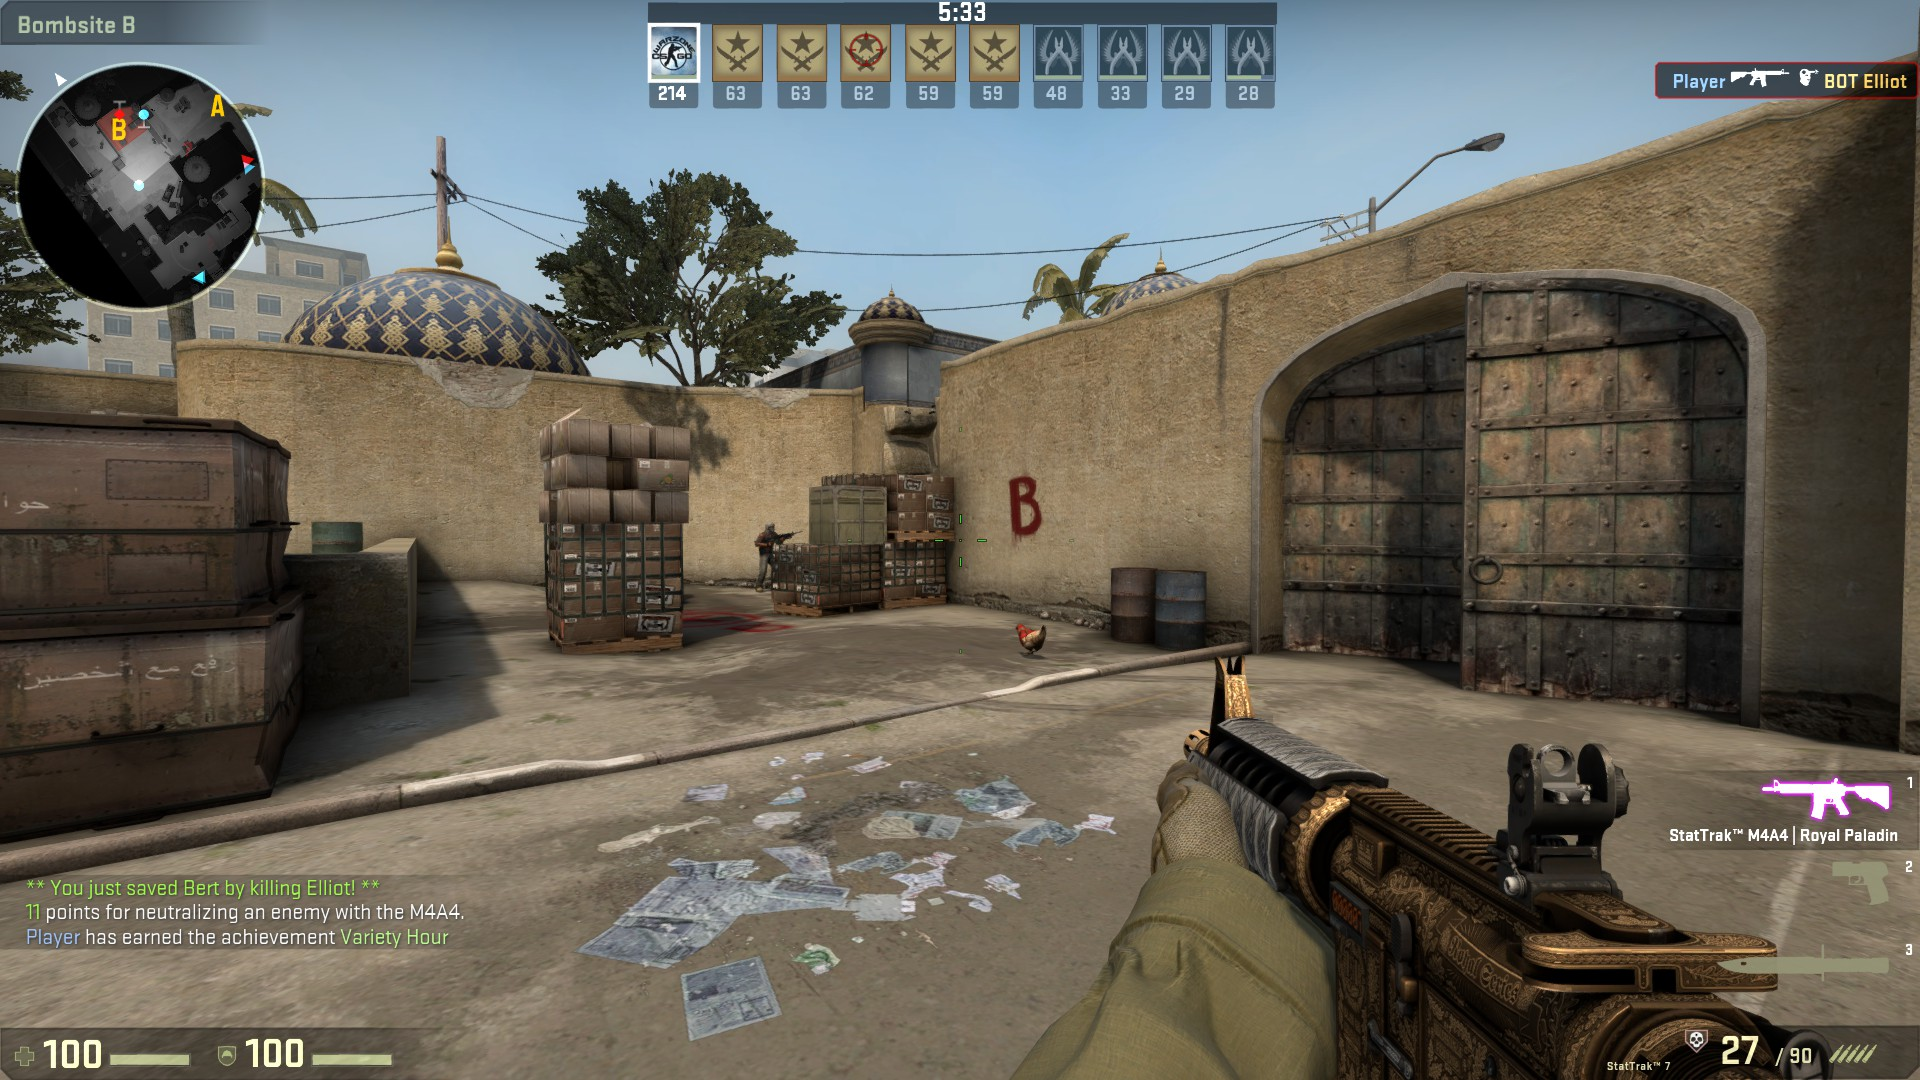t: (753, 521, 785, 589)
th: (760, 521, 778, 535)
